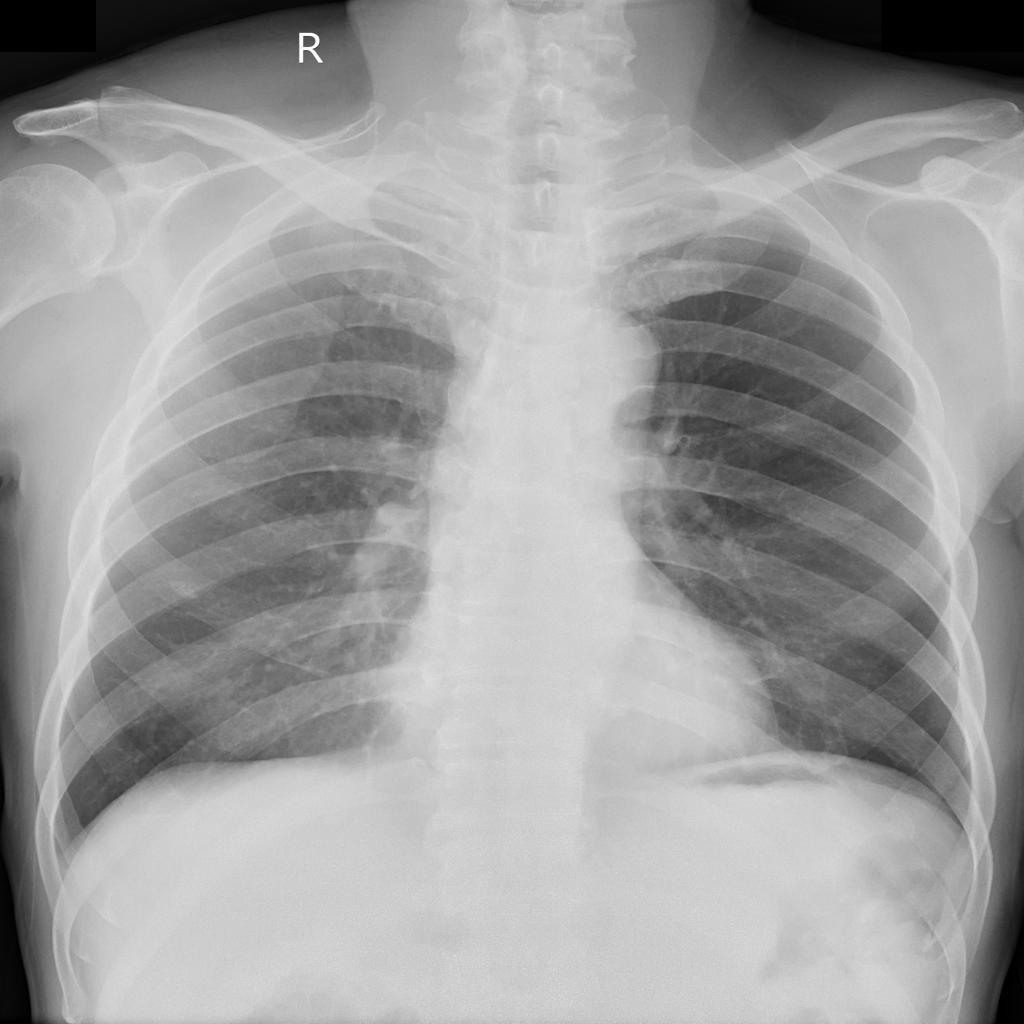Nodule: (173, 582, 202, 597)
